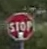stop: (3, 11, 35, 41)
